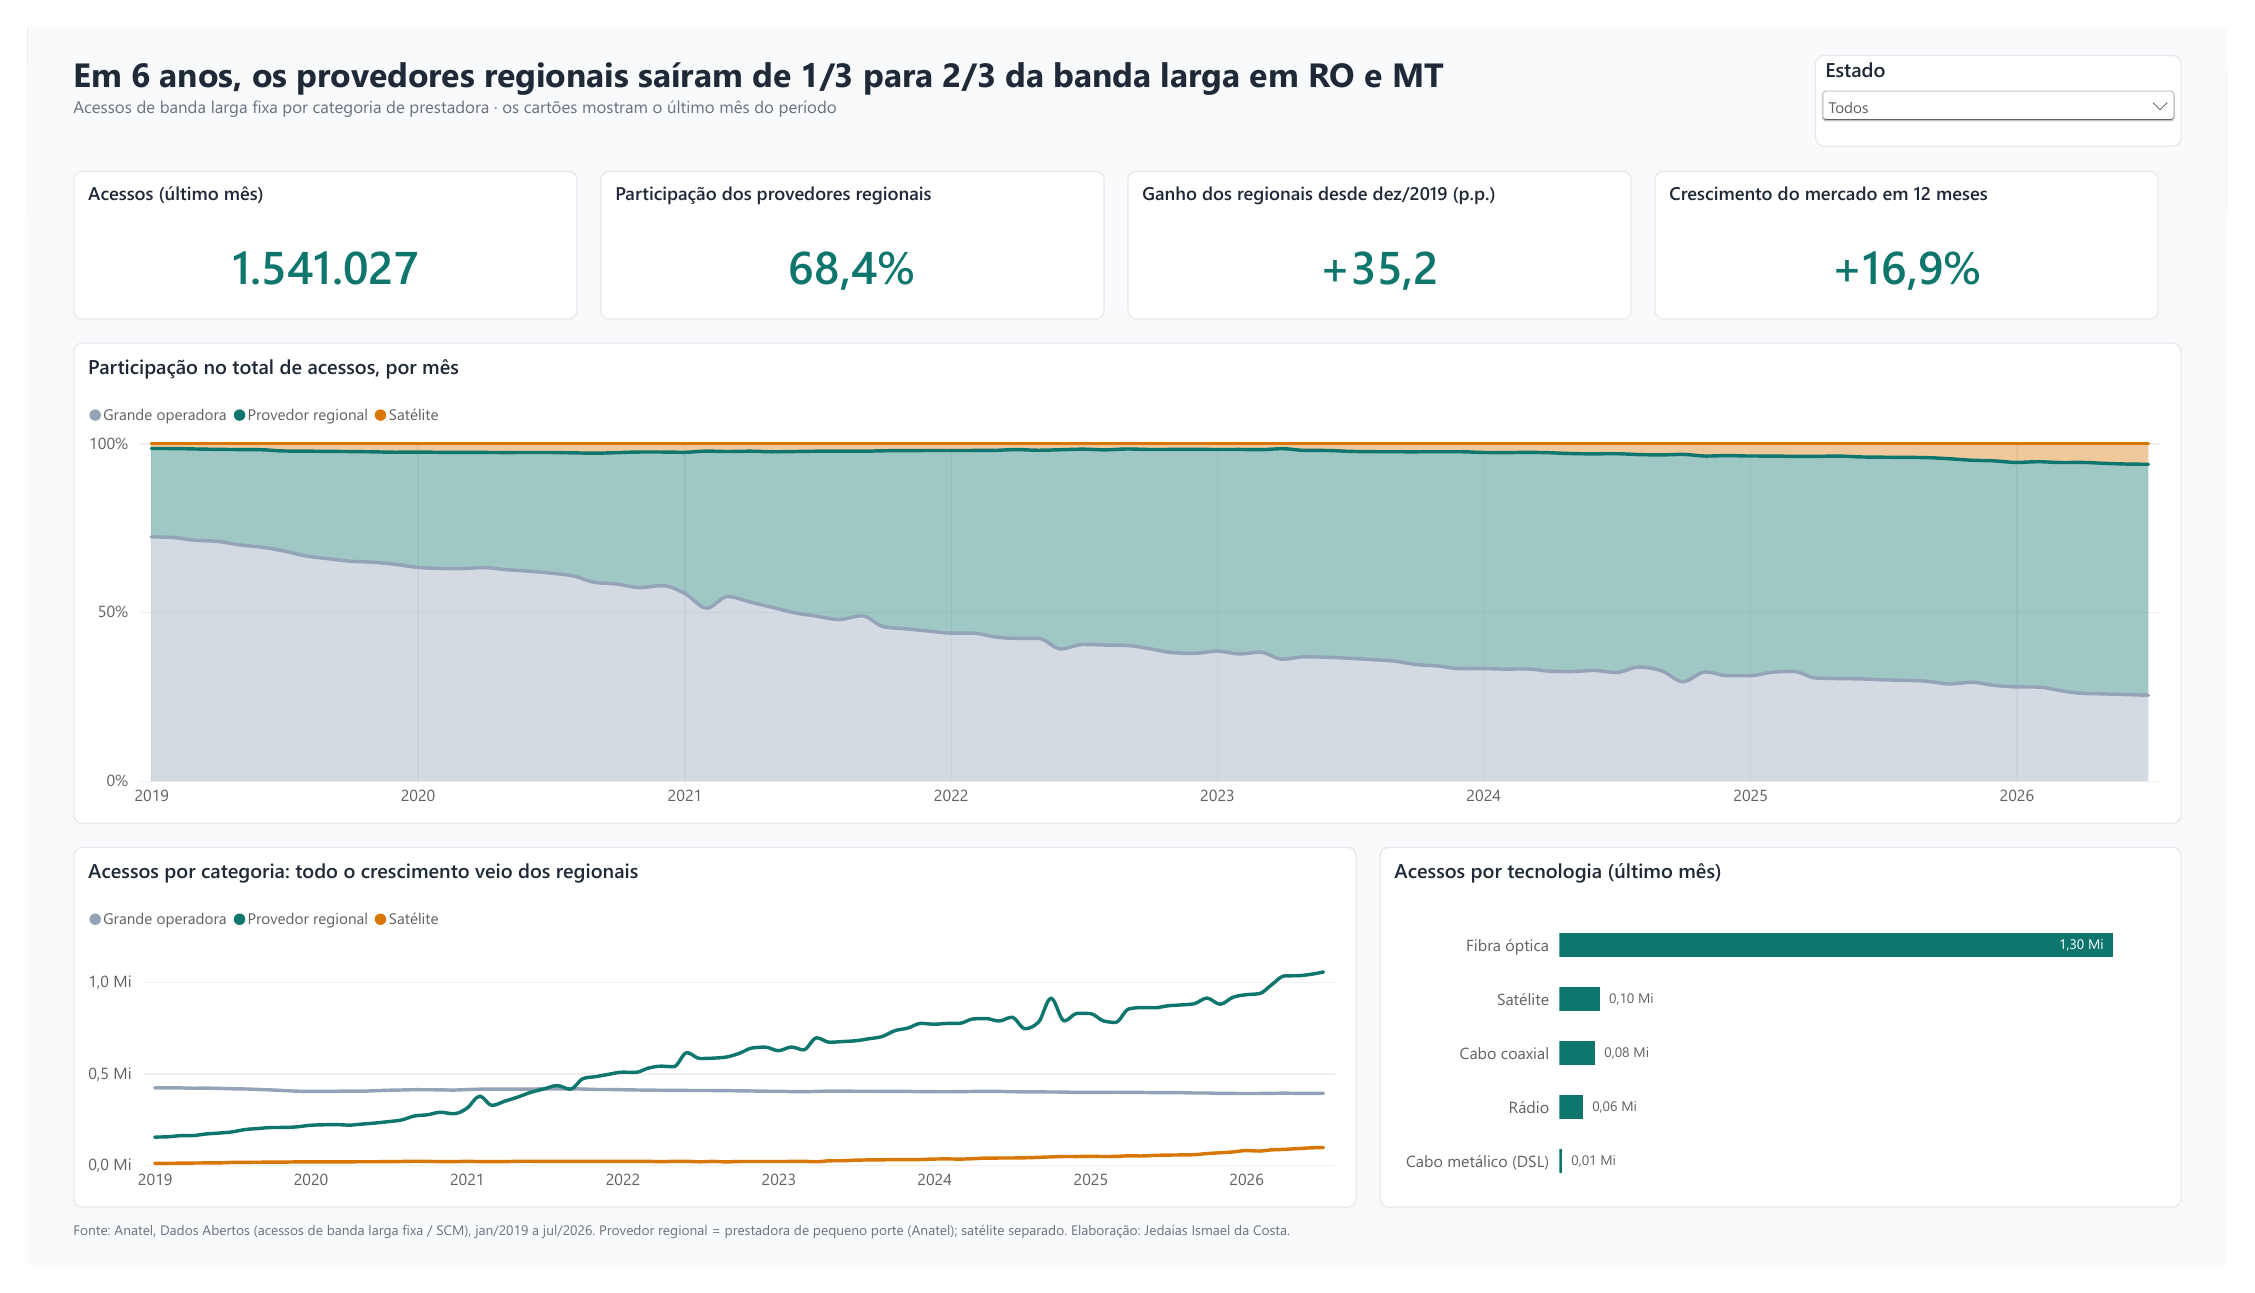

This screenshot's page, from the dashboard's own definition file:
{"tool":"powerbi","page":{"name":"Visão geral","canvas":[1920,1080],"ordinal":0},"visuals":[{"type":"textbox","box":[40,20,1480,90],"z":0},{"type":"slicer","fields":{"Values":["dim_municipio.uf"]},"box":[1560,24,320,80],"z":1},{"type":"textbox","box":[40,1040,1840,32],"z":2},{"type":"card","title":"Acessos (último mês)","fields":{"Values":["fato_acessos.Acessos"]},"box":[40,125,440,130],"z":3},{"type":"card","title":"Participação dos provedores regionais","fields":{"Values":["fato_acessos.Share Regionais %"]},"box":[500,125,440,130],"z":4},{"type":"card","title":"Ganho dos regionais desde dez/2019 (p.p.)","fields":{"Values":["fato_acessos.Ganho Regionais (p.p.)"]},"box":[960,125,440,130],"z":5},{"type":"card","title":"Crescimento do mercado em 12 meses","fields":{"Values":["fato_acessos.Crescimento 12m %"]},"box":[1420,125,440,130],"z":6},{"type":"hundredPercentStackedAreaChart","title":"Participação no total de acessos, por mês","fields":{"Category":["dCalendario.Date"],"Y":["fato_acessos.Acessos"],"Series":["fato_acessos.categoria"]},"box":[40,275,1840,420],"z":7},{"type":"lineChart","title":"Acessos por categoria: todo o crescimento veio dos regionais","fields":{"Category":["dCalendario.Date"],"Y":["fato_acessos.Acessos"],"Series":["fato_acessos.categoria"]},"box":[40,715,1120,315],"z":8},{"type":"clusteredBarChart","title":"Acessos por tecnologia (último mês)","fields":{"Category":["fato_acessos.tecnologia"],"Y":["fato_acessos.Acessos"]},"box":[1180,715,700,315],"z":9}]}

Visuals, with their boxes in screenshot pixels (x1, y1, x2, y2), scaled from the page's 1920x1080 canvas onto the 2255x1293 screenshot:
textbox: bbox=(47, 24, 1785, 132)
slicer - dim_municipio.uf: bbox=(1832, 29, 2208, 125)
textbox: bbox=(47, 1245, 2208, 1283)
"Acessos (último mês)" card: bbox=(47, 150, 564, 305)
"Participação dos provedores regionais" card: bbox=(587, 150, 1104, 305)
"Ganho dos regionais desde dez/2019 (p.p.)" card: bbox=(1128, 150, 1644, 305)
"Crescimento do mercado em 12 meses" card: bbox=(1668, 150, 2185, 305)
"Participação no total de acessos, por mês" hundredPercentStackedAreaChart: bbox=(47, 329, 2208, 832)
"Acessos por categoria: todo o crescimento veio dos regionais" lineChart: bbox=(47, 856, 1362, 1233)
"Acessos por tecnologia (último mês)" clusteredBarChart: bbox=(1386, 856, 2208, 1233)
